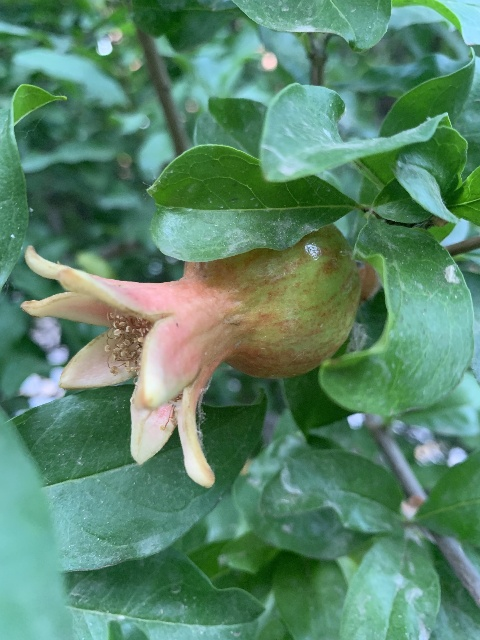early-fruit: (18, 222, 360, 490)
